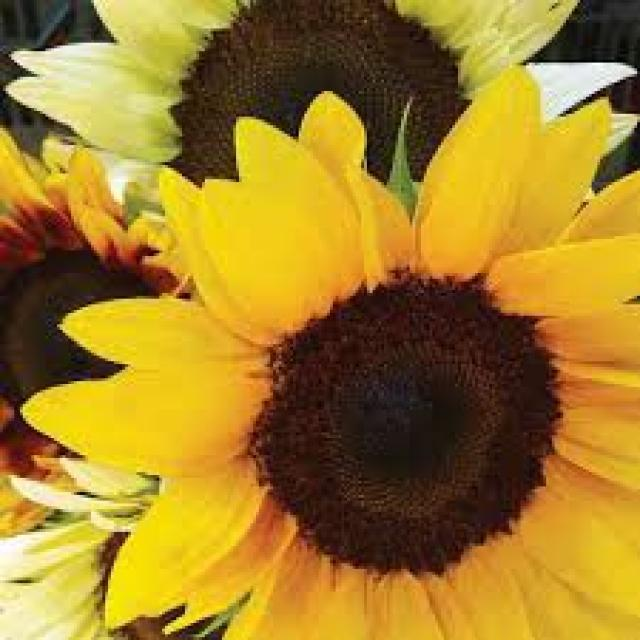sunflower: (11, 54, 640, 640), (0, 0, 586, 176)
